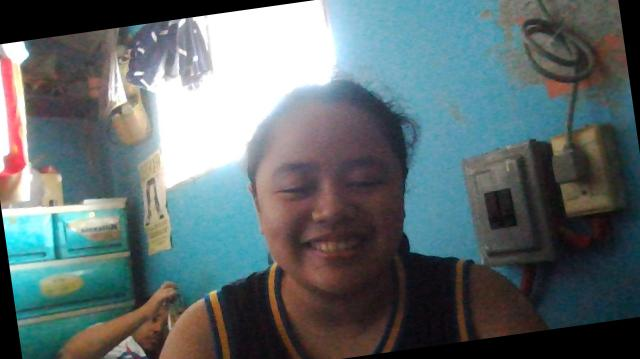senang: (241, 94, 419, 306)
